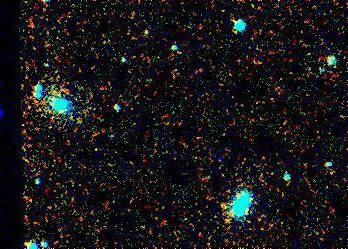star: (320, 158, 348, 188)
